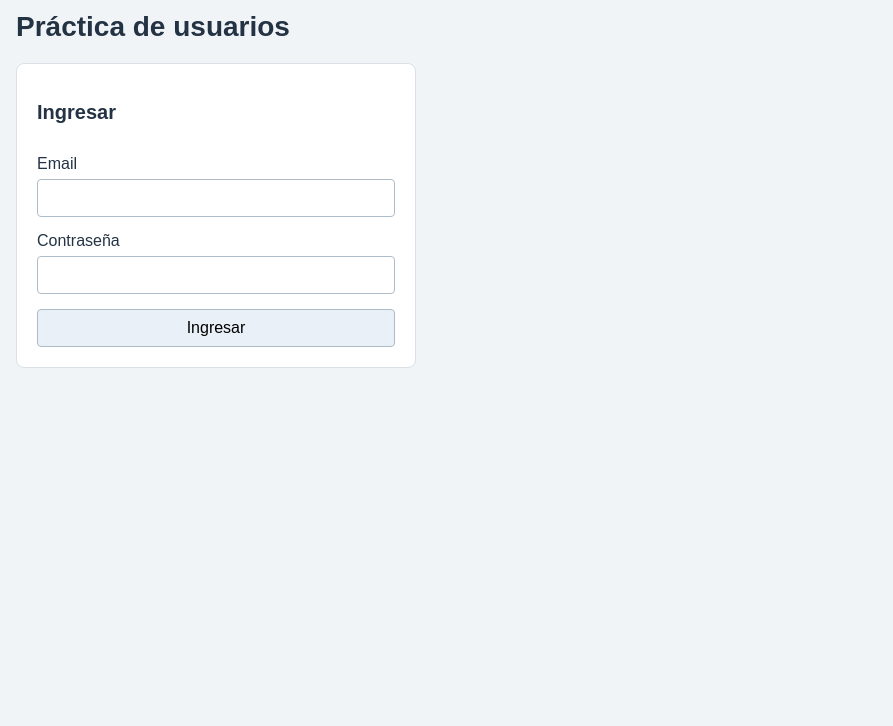
Test: iniciar y cerrar sesión
Later steps or results of the test are not shown.
Type "mgomez@email.com" into the field labelled "Email" at (216,198), box [37,179,395,217]
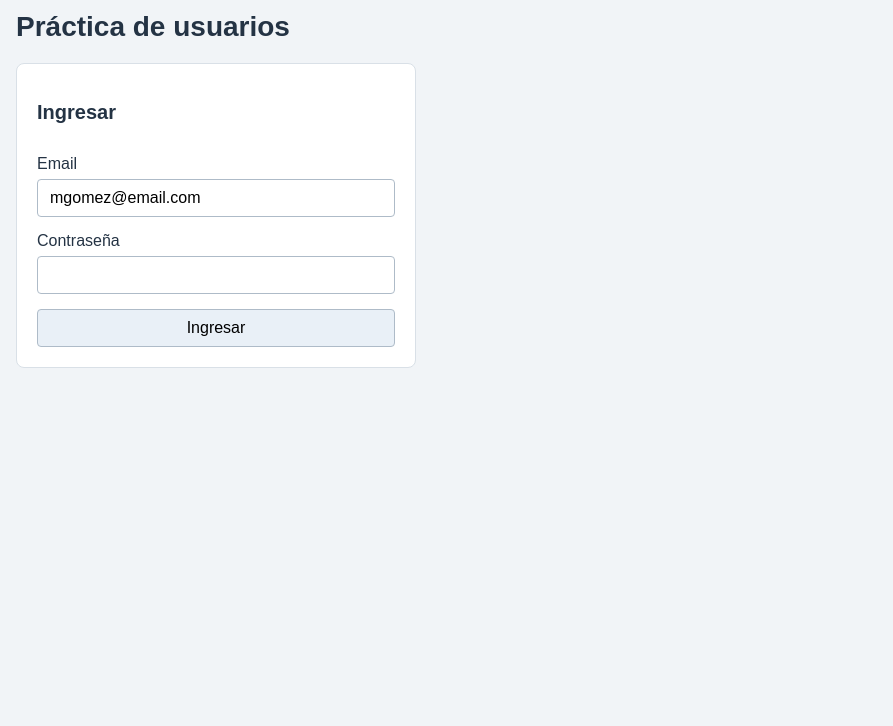
Type "123" into the password field labelled "Contraseña" at (216,275), box [37,256,395,294]
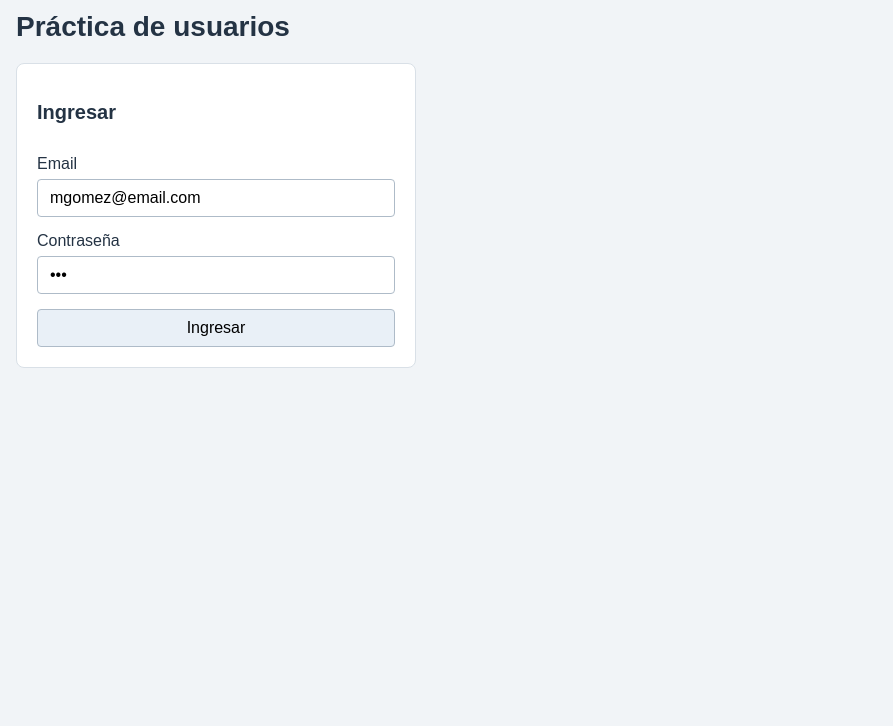
Click the button "Ingresar" at (216,328), box [37,309,395,347]
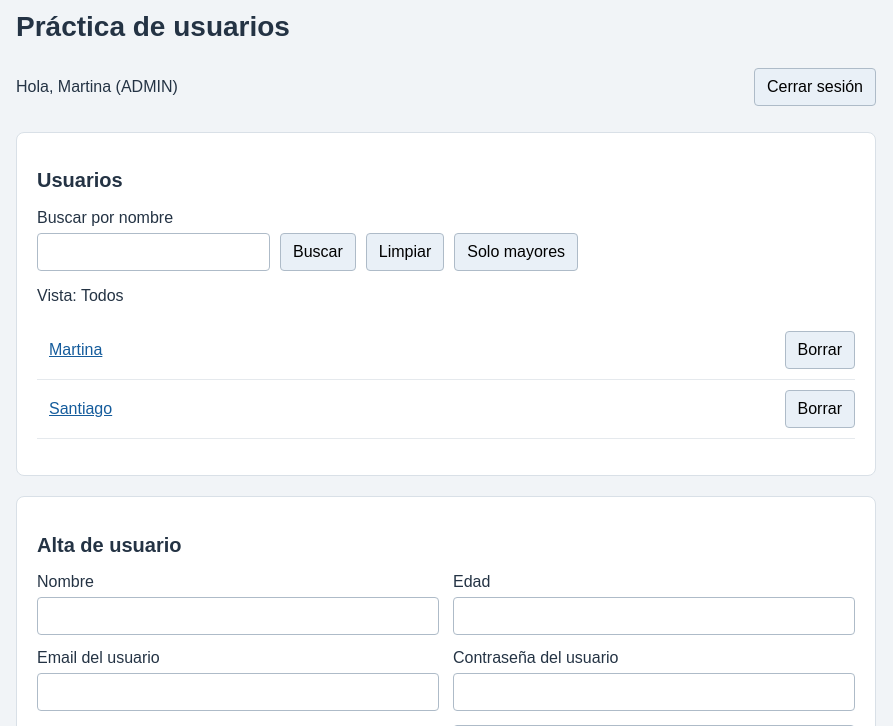
Expected: the text "Hola, Martina (ADMIN)" is shown, [16,78,178,96]
